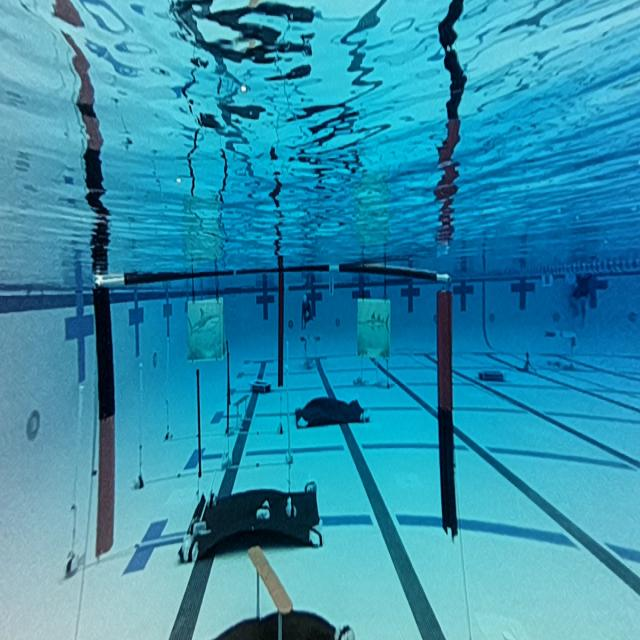pointed_nose: (357, 296, 392, 358)
round_nose: (184, 294, 225, 362)
